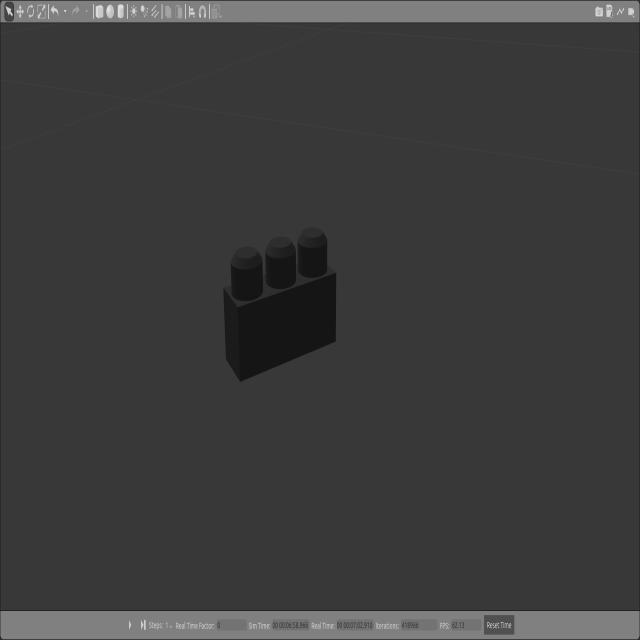block6: (223, 227, 336, 382)
